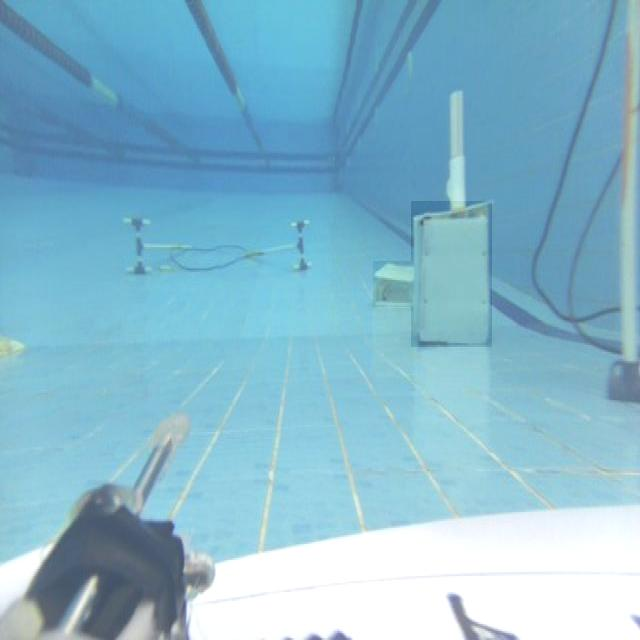Cube: (411, 201, 492, 347)
Cuboid: (373, 262, 414, 308)
